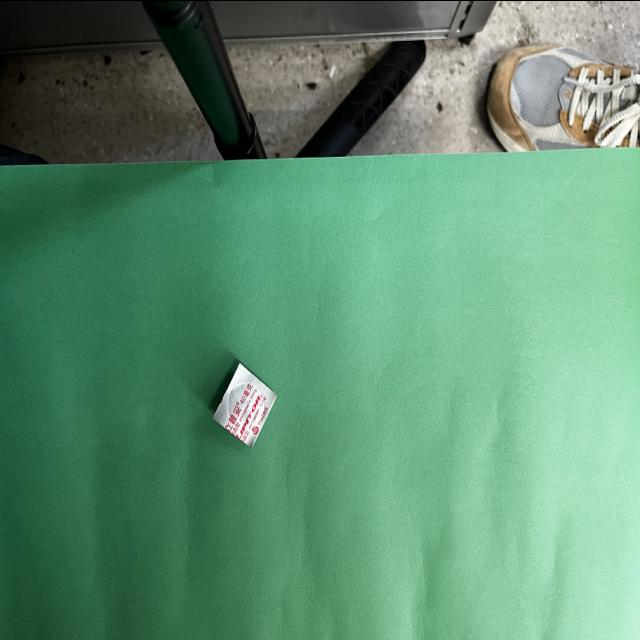Other Objects: (213, 362, 276, 446)
